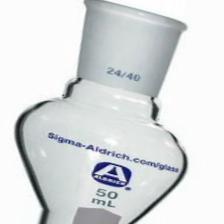Pear shaped flask: (4, 14, 193, 219)
